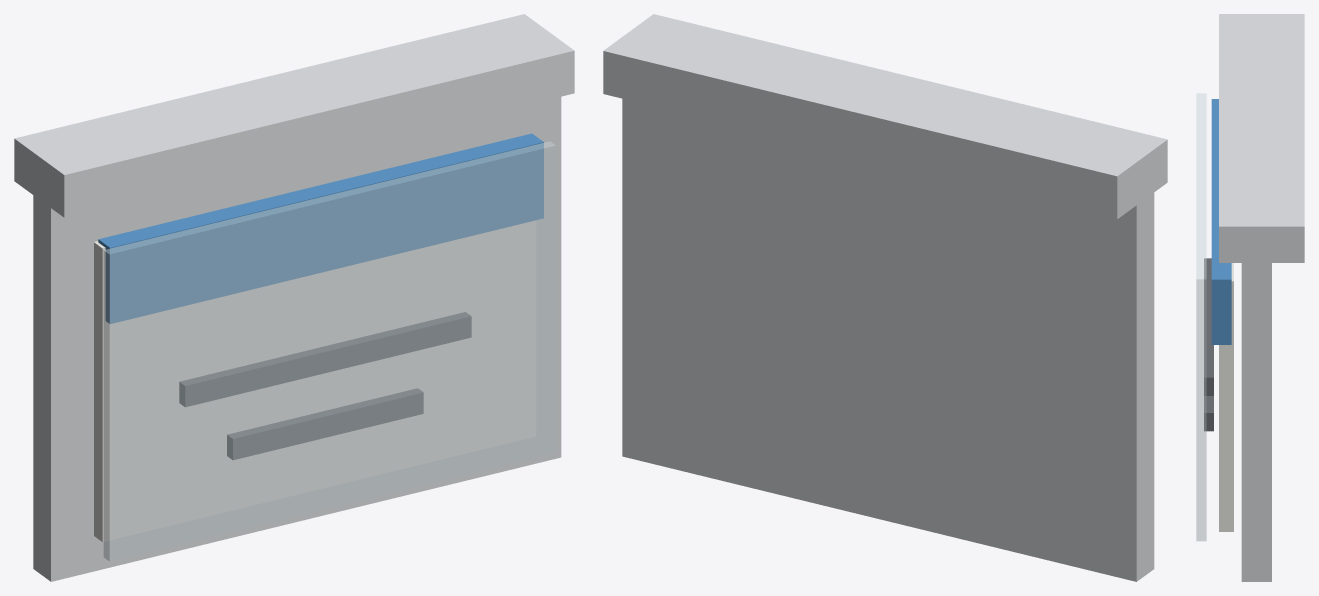
File: boarding-kennels-and-cattery-boarding-kennels-and-catt-99dc0706__35538.glb
3 views of the same model, side by side, from view 1: azimuth 30°, elevation 25°; view 2: azimuth 150°, elevation 25°; view 3: azimuth 270°, elevation 25° (orthographic). The views are drawn at different scales.
Visible parts, largest first — view 1: boarding-kennels-and-cattery-name-card-holder; view 2: boarding-kennels-and-cattery-name-card-holder; view 3: boarding-kennels-and-cattery-name-card-holder.
Boxes of the visible parts, left/top/right/bottom form: boarding-kennels-and-cattery-name-card-holder: left=14, top=14, right=574, bottom=581; boarding-kennels-and-cattery-name-card-holder: left=603, top=14, right=1167, bottom=581; boarding-kennels-and-cattery-name-card-holder: left=1196, top=14, right=1304, bottom=581.
Size of the model in its own units: 0.2 by 0.156 by 0.043.
